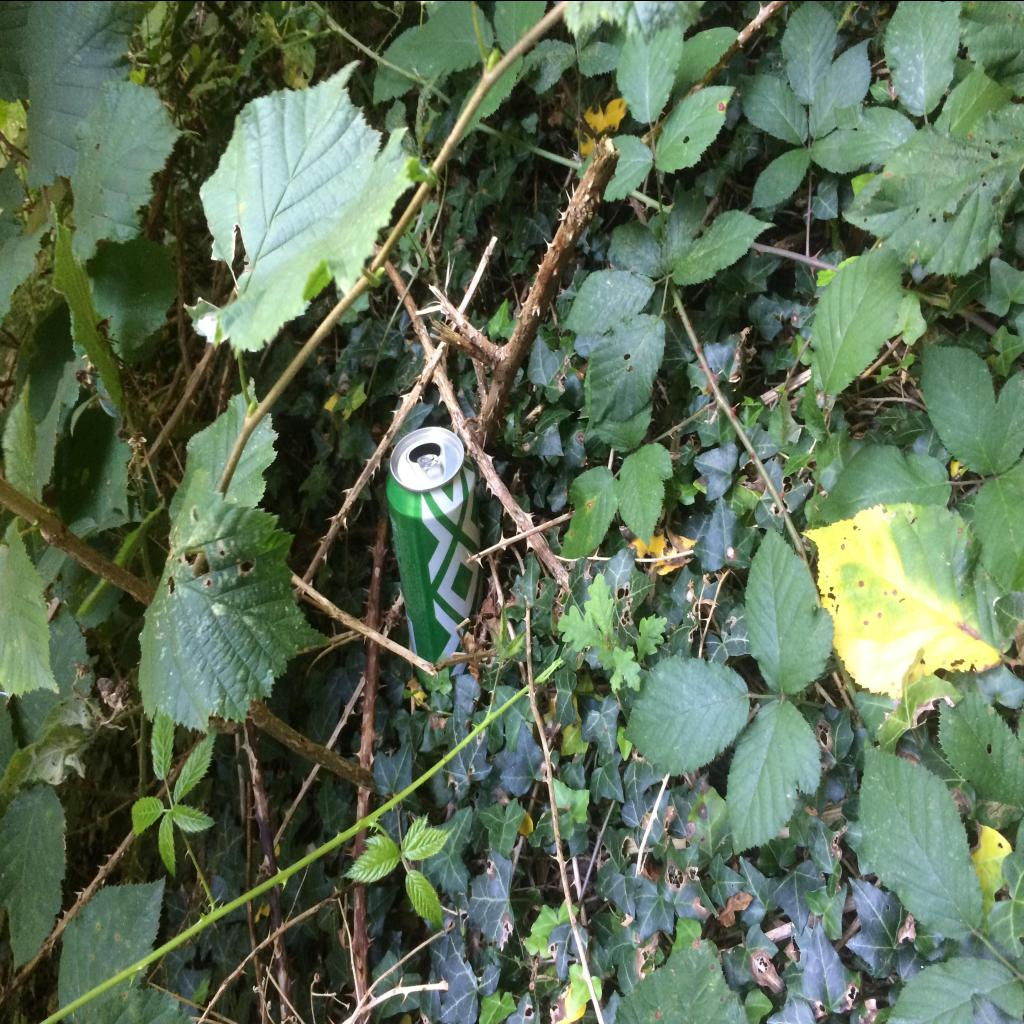Drink can: (385, 426, 484, 674)
Pop tab: (418, 453, 442, 469)
